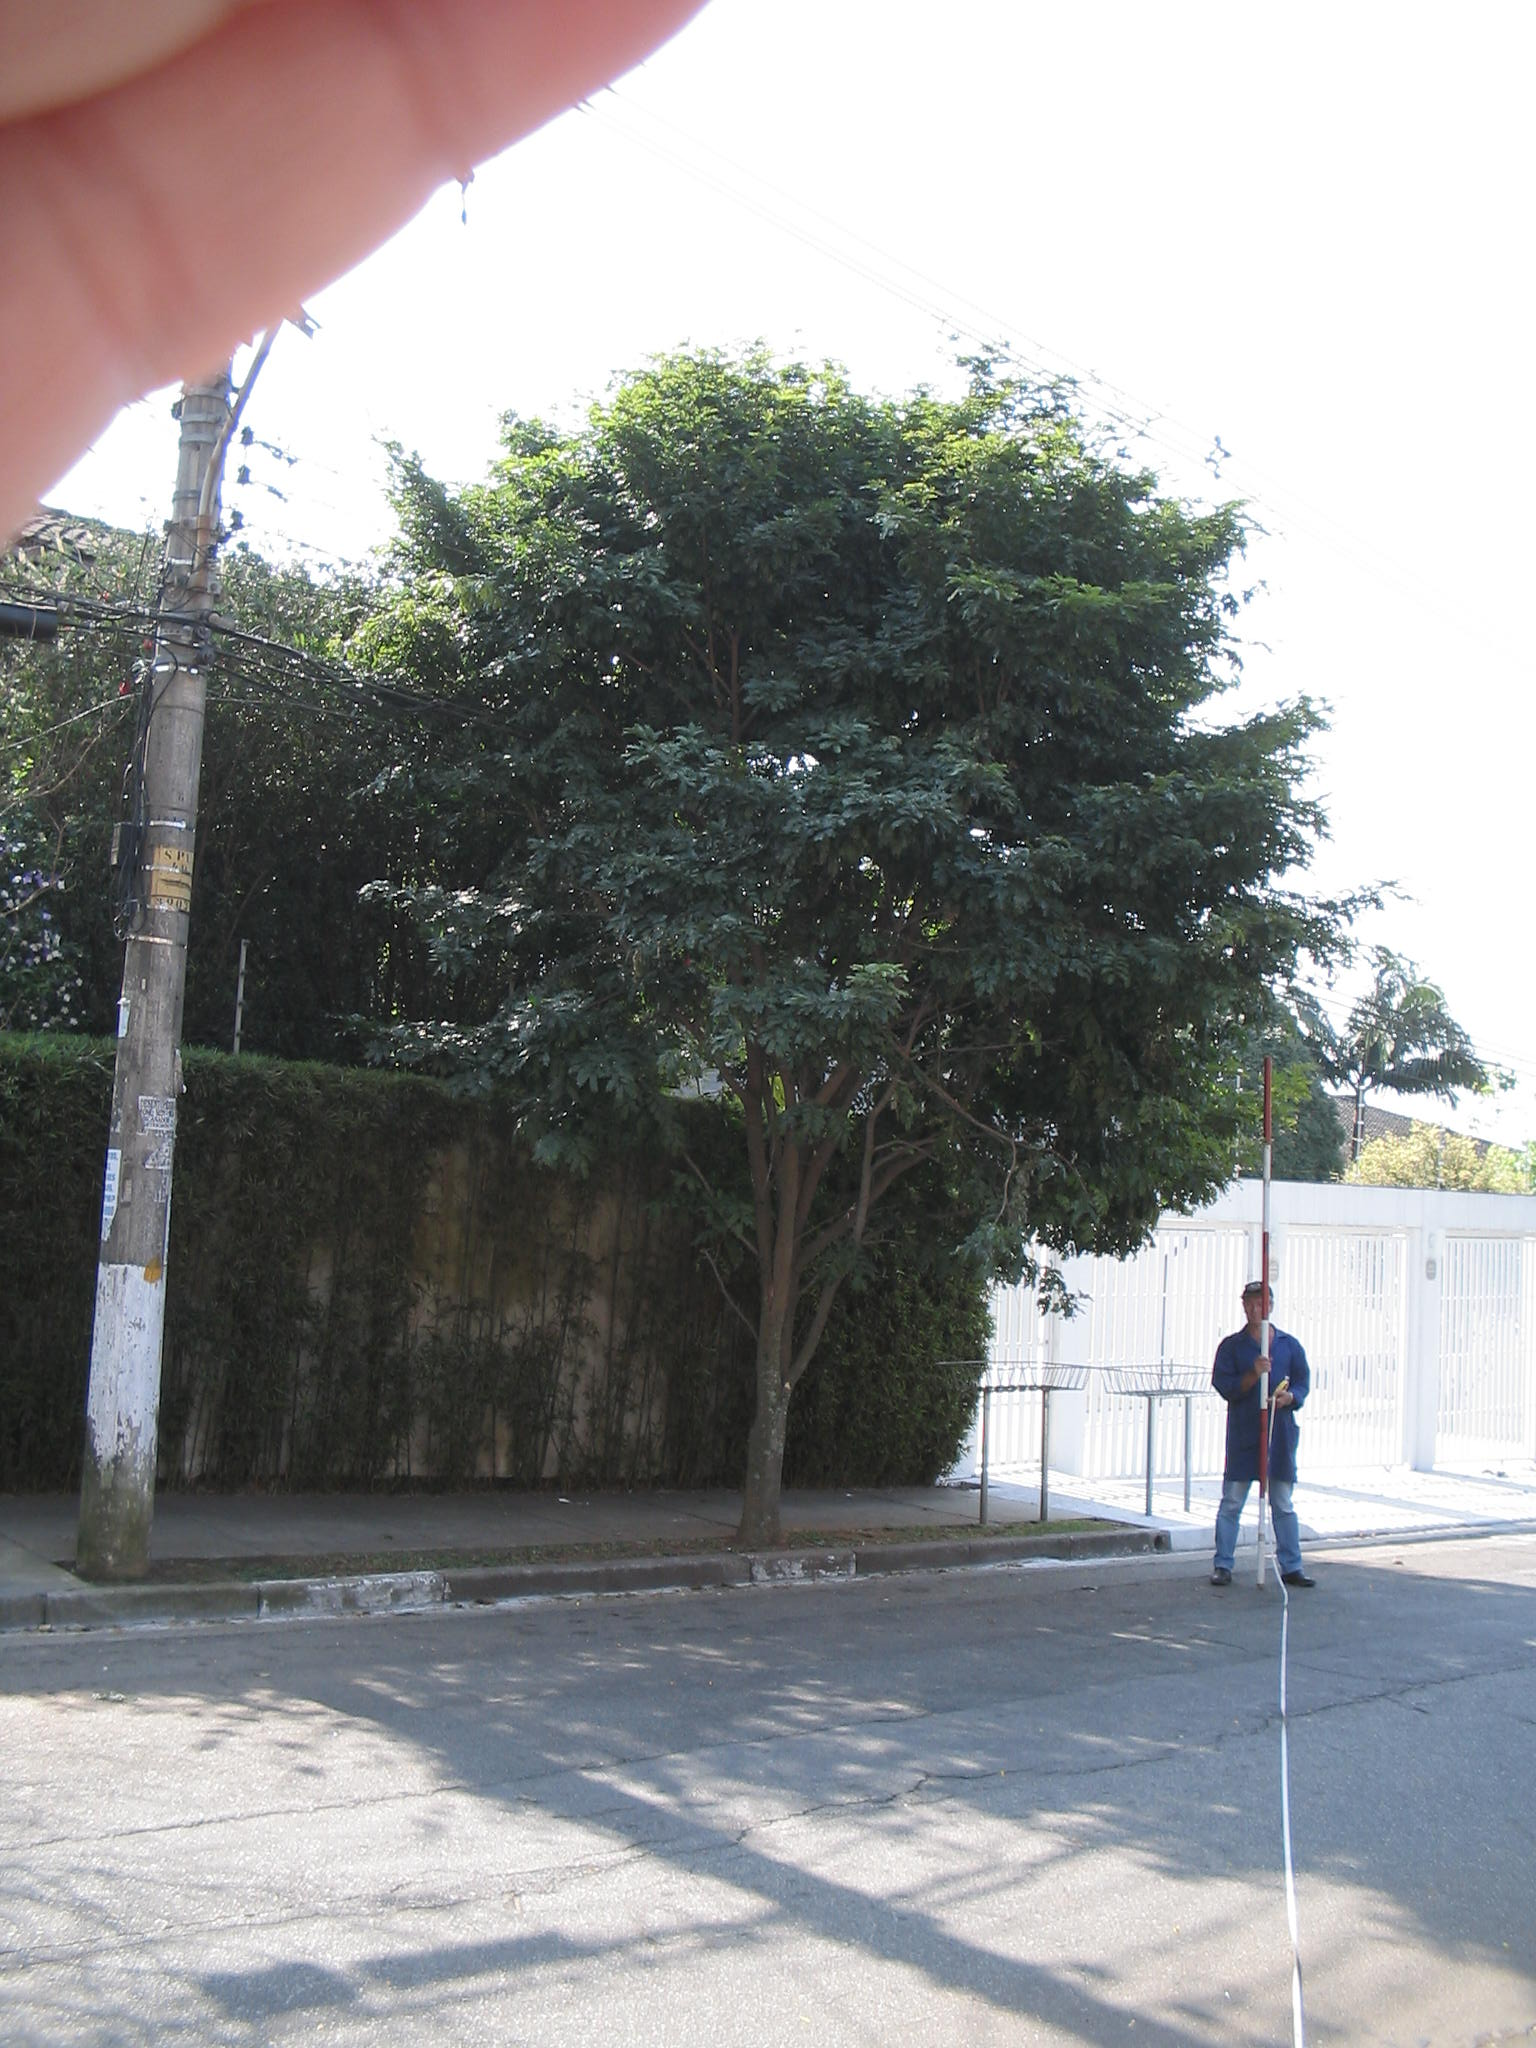crown: (352, 324, 1350, 1332)
stem: (687, 1345, 824, 1550)
stick: (1233, 1055, 1304, 1592)
tree: (340, 324, 1362, 1553), (1296, 961, 1536, 1184)
